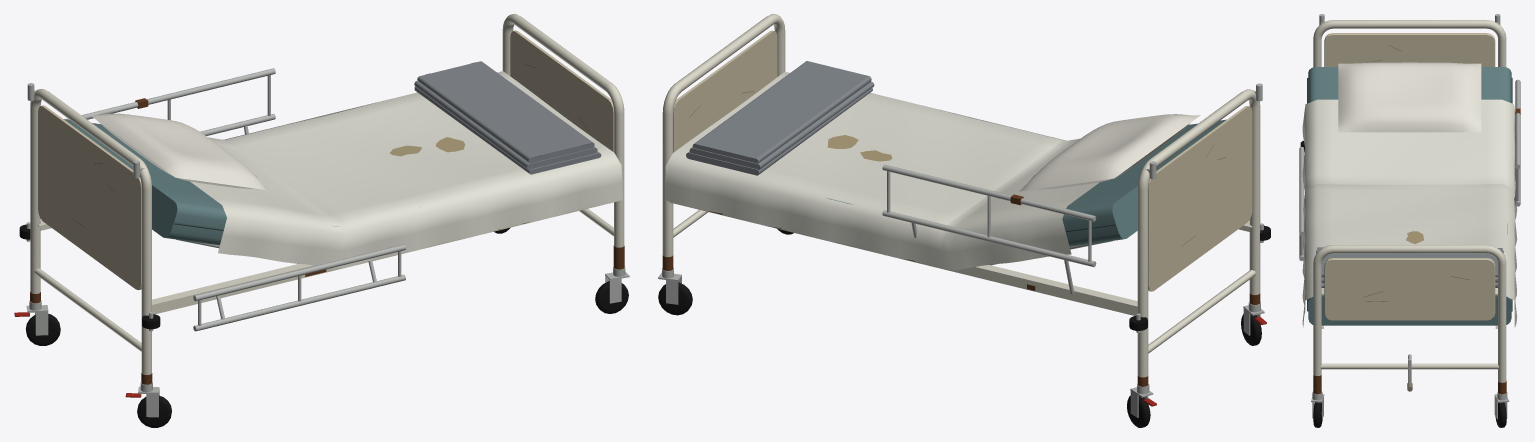
File: hospital_bed.glb
3 views of the same model, side by side, from view 1: azimuth 30°, elevation 25°; view 2: azimuth 150°, elevation 25°; view 3: azimuth 270°, elevation 25° (orthographic). The views are drawn at different scales.
Visible parts, largest first — view 1: krankenbett; view 2: krankenbett; view 3: krankenbett.
Part boxes in pixels (left/top/right/bottom): krankenbett: left=14, top=14, right=629, bottom=427; krankenbett: left=658, top=14, right=1270, bottom=427; krankenbett: left=1299, top=14, right=1520, bottom=427.
Size of the model in its own units: 2.16 by 1.05 by 0.959.
